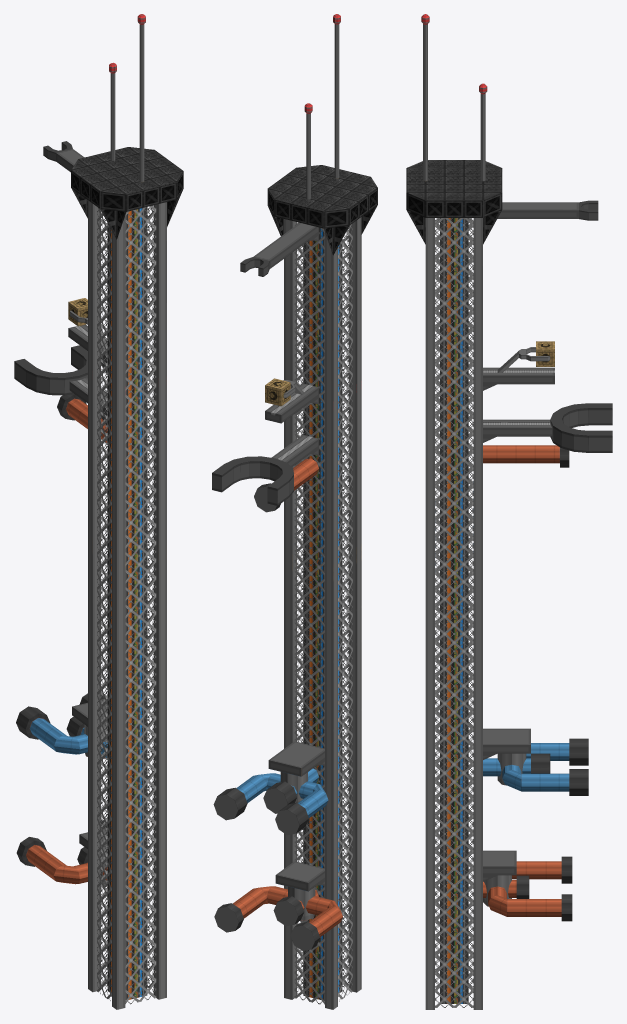
Rendered from soyuz_launcher_tower.obj.
3 renders of one model, left to right at view 1: azimuth 30°, elevation 25°; view 2: azimuth 150°, elevation 25°; view 3: azimuth 270°, elevation 25°, orthographic. The views are drawn at different scales.
Parts seen in each view (by area): view 1: Cube.008_Cube.023; view 2: Cube.008_Cube.023; view 3: Cube.008_Cube.023.
Part boxes in pixels (<box>): Cube.008_Cube.023: <box>14,14,183,1009</box>; Cube.008_Cube.023: <box>212,14,377,1009</box>; Cube.008_Cube.023: <box>406,14,612,1009</box>.
Size of the model in its own units: 6.15 by 56.5 by 10.75.
